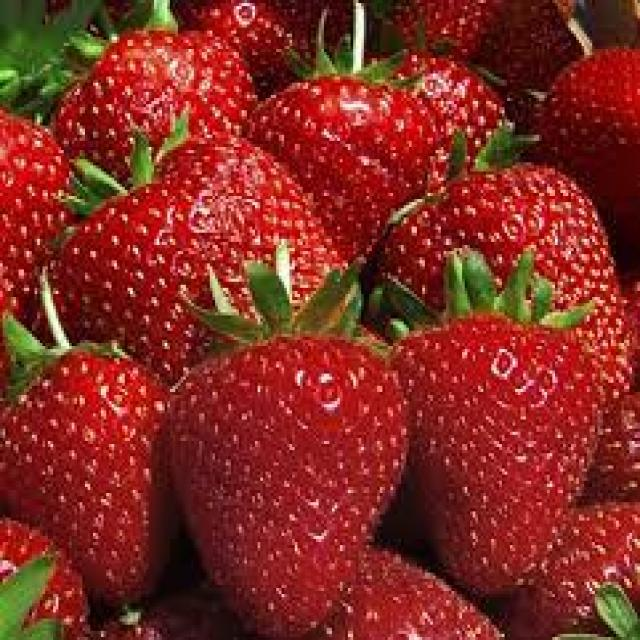strawberry: (160, 296, 414, 632), (386, 288, 612, 594), (0, 330, 180, 613)
